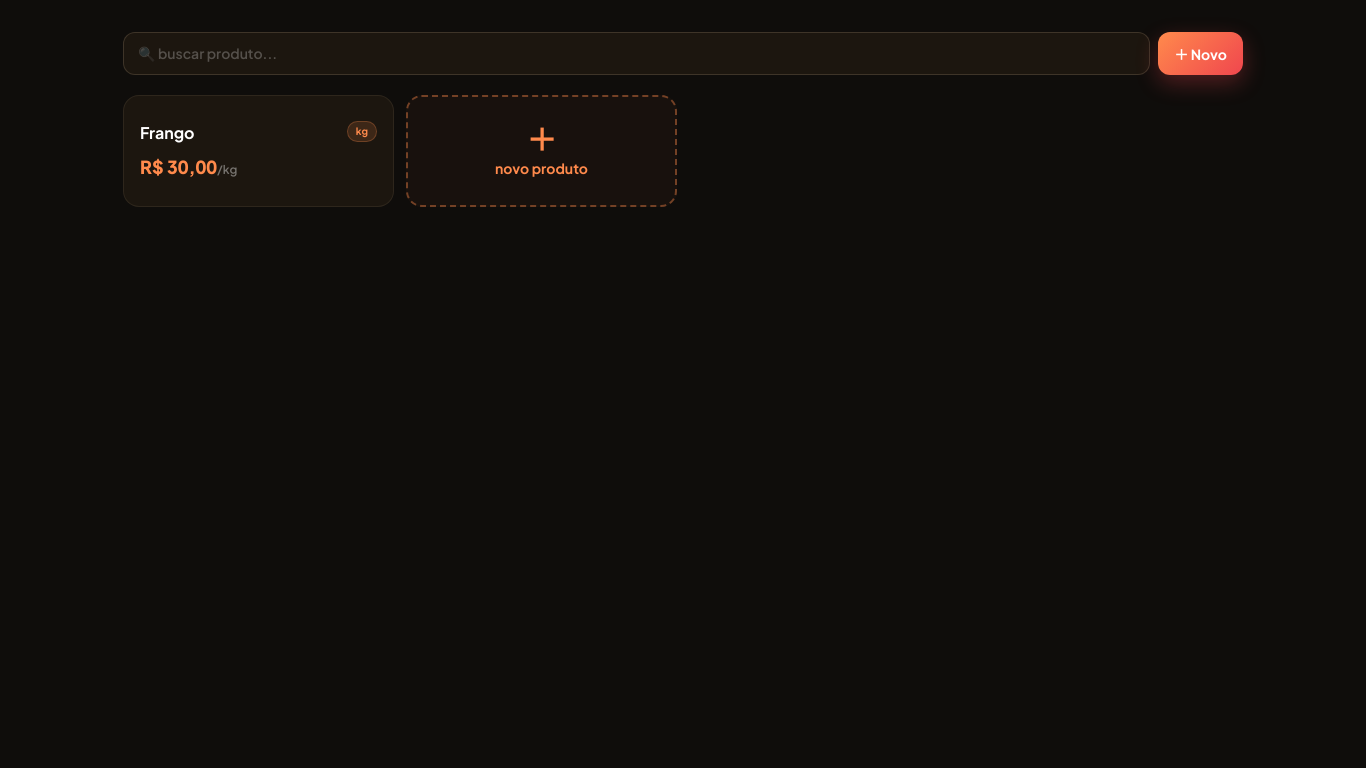
Produtos — excluir › mostra o botão "Excluir produto" ao editar
Click the text "Frango".
click(167, 133)  # box 140,121 -> 194,145
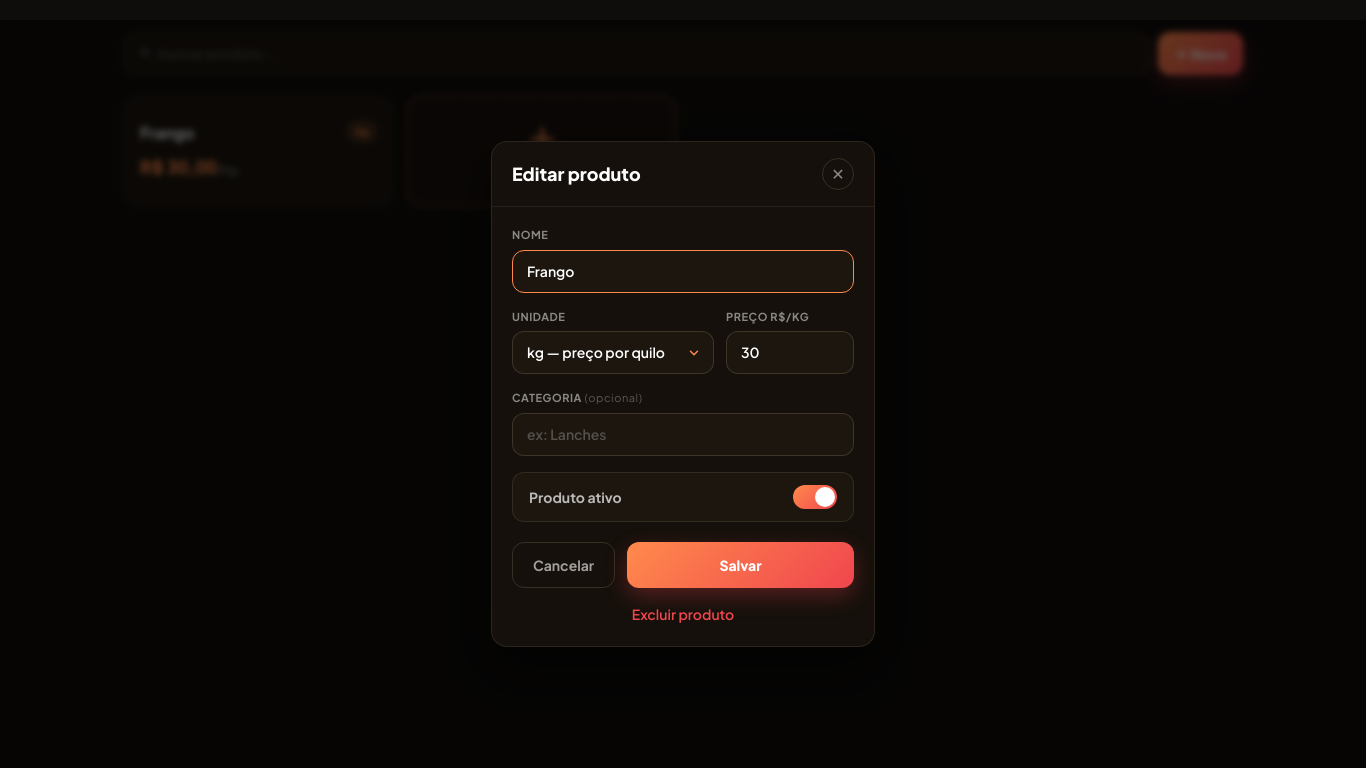
Now the button "Excluir produto" is shown, box 512,604 -> 854,624
